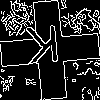K: (25, 25, 62, 73)
